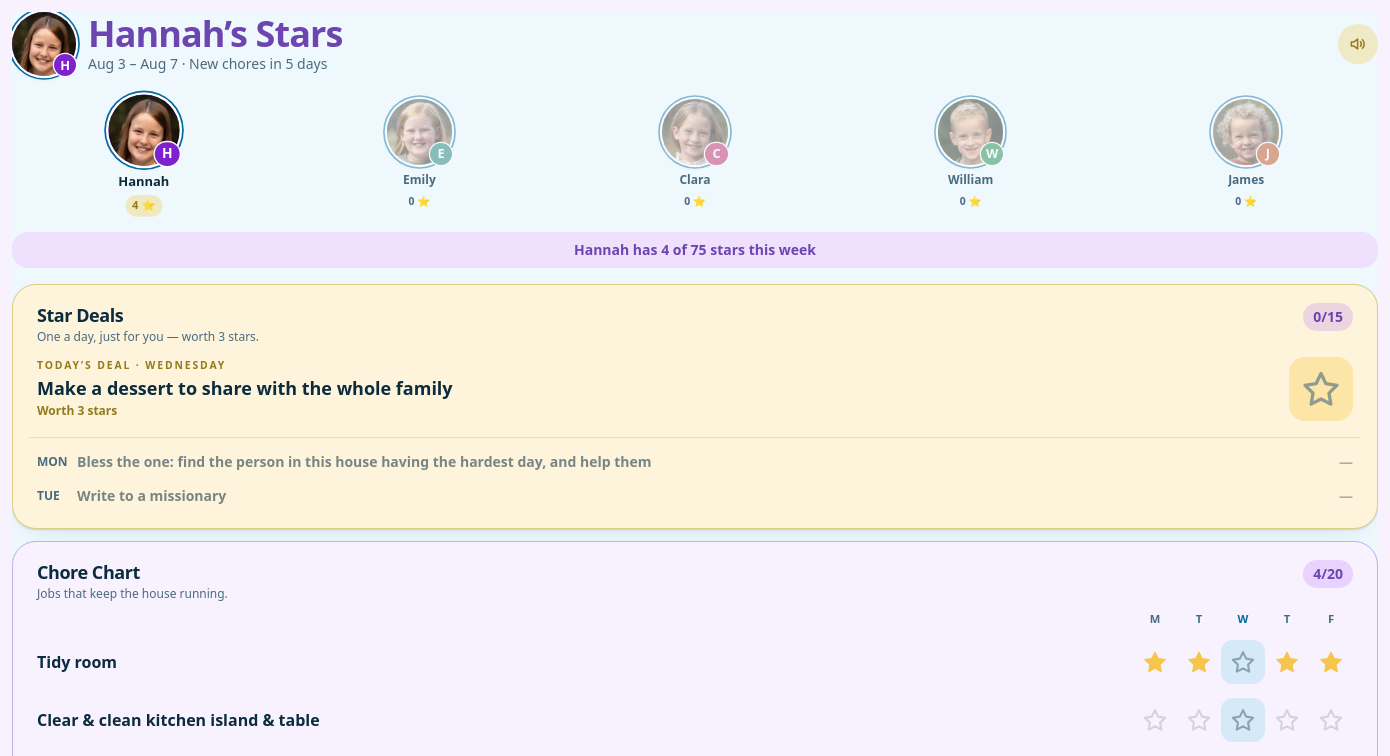
colouring in a star › celebrates a whole row
Expected: the text "Whole row" is not shown
Click the switch named "Tidy room on " at (1243,662), box [1221,640,1265,684]
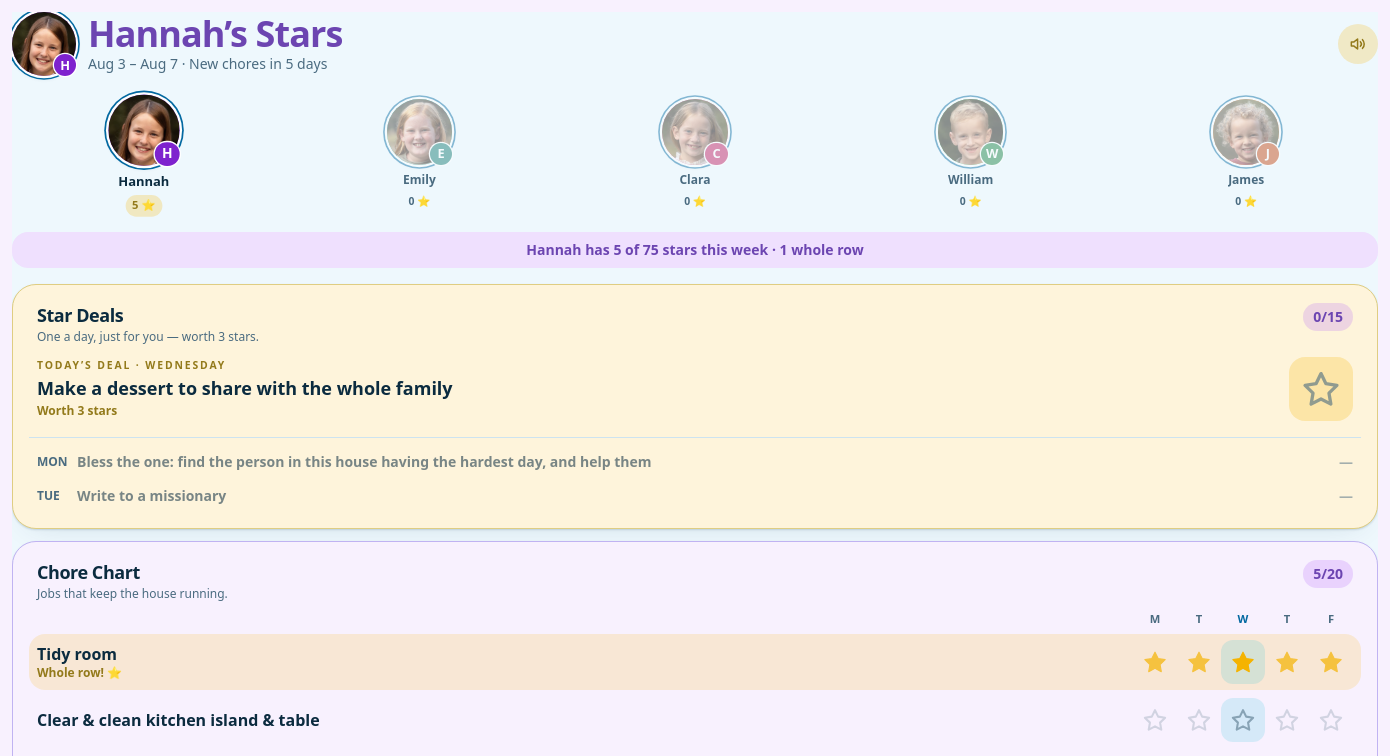
Now the text "Whole row! ⭐" is shown, box [37,664,122,681]
